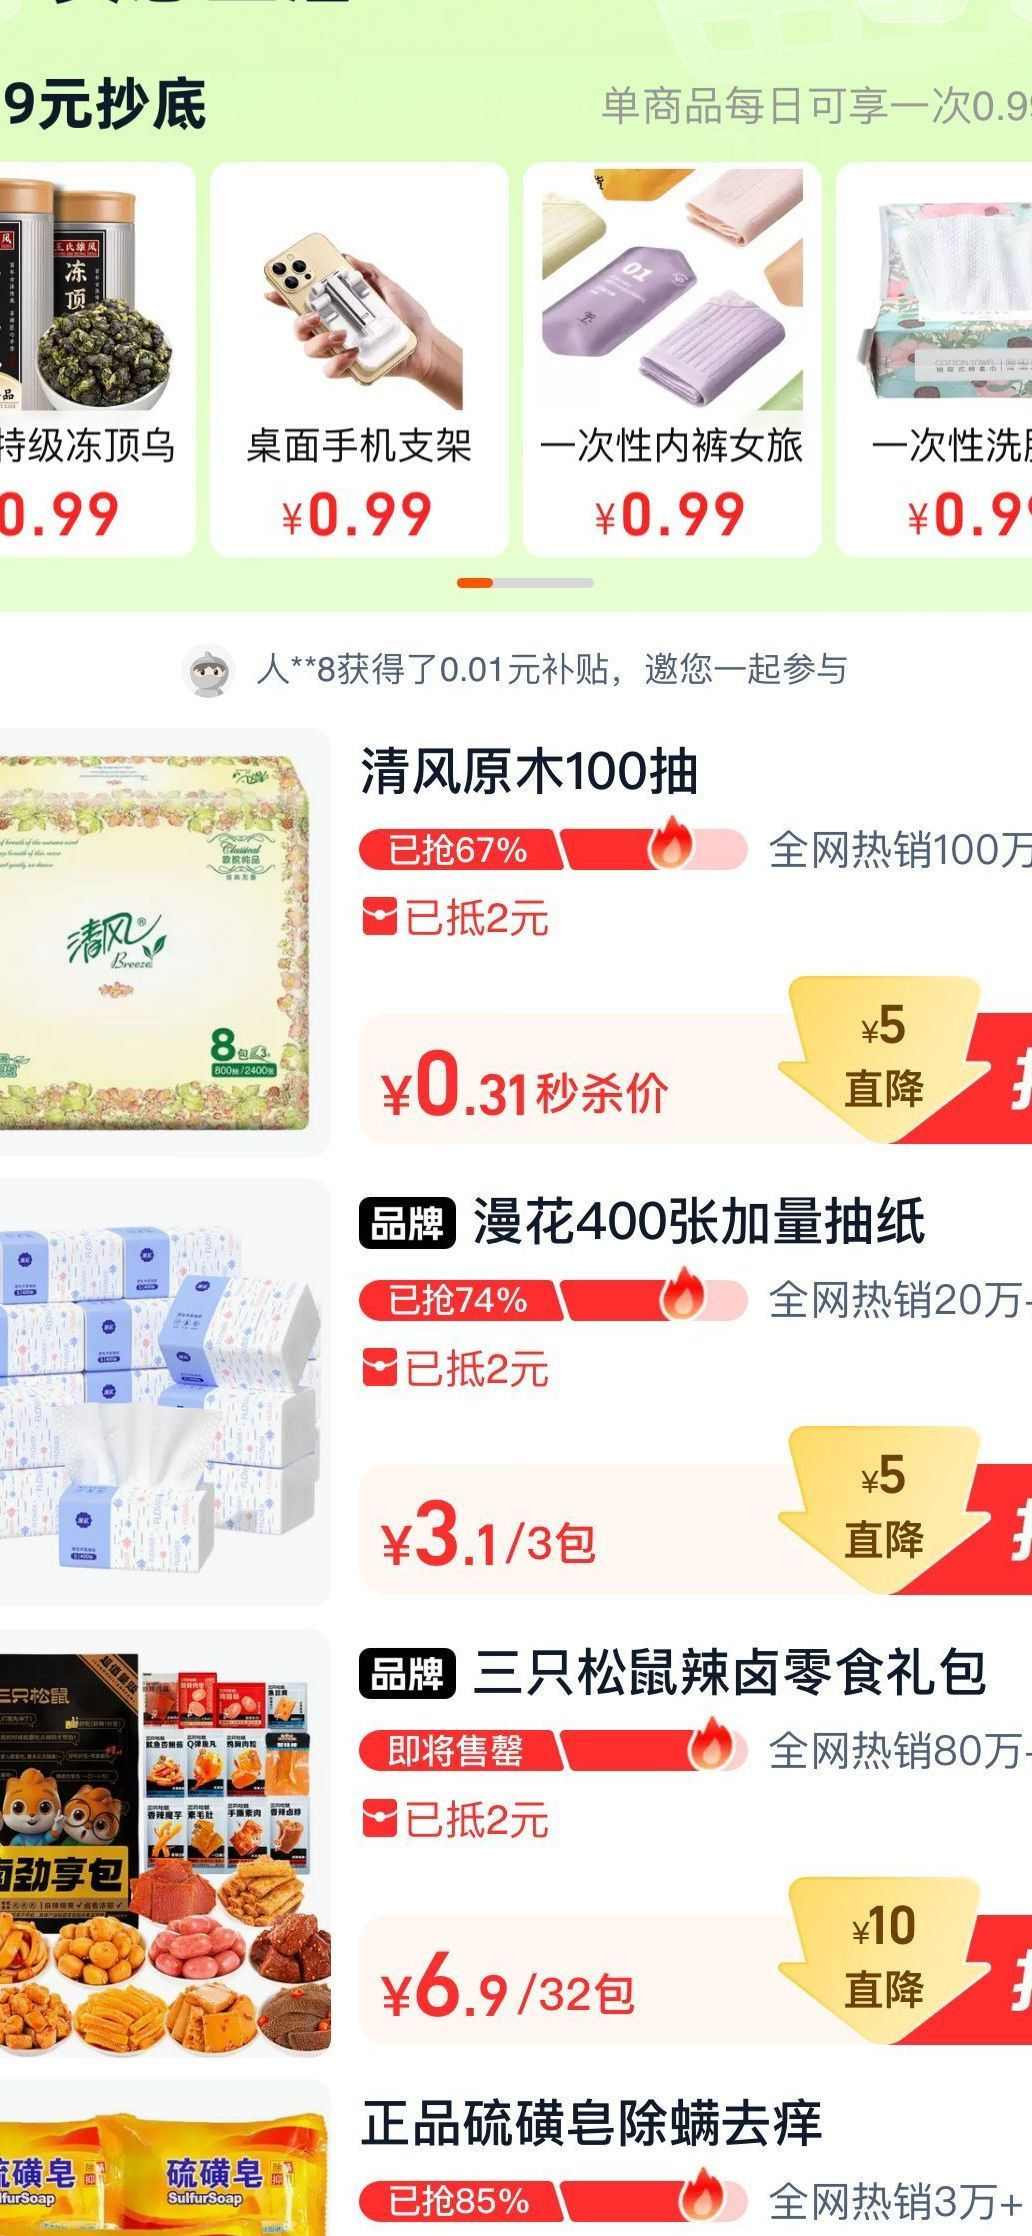item: (1, 723, 1029, 1157), (7, 1623, 1031, 2056), (1, 1181, 1032, 1606)
seckill: (1, 145, 1029, 575)
